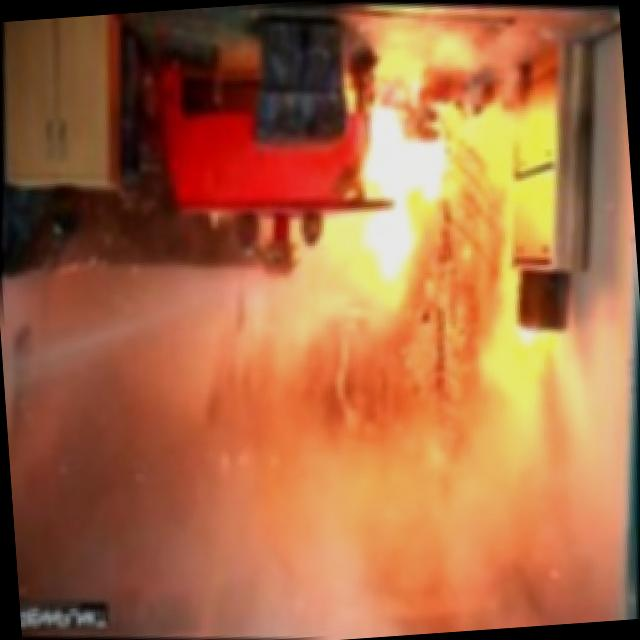fire: (312, 102, 486, 347)
smoke: (100, 361, 425, 640)
